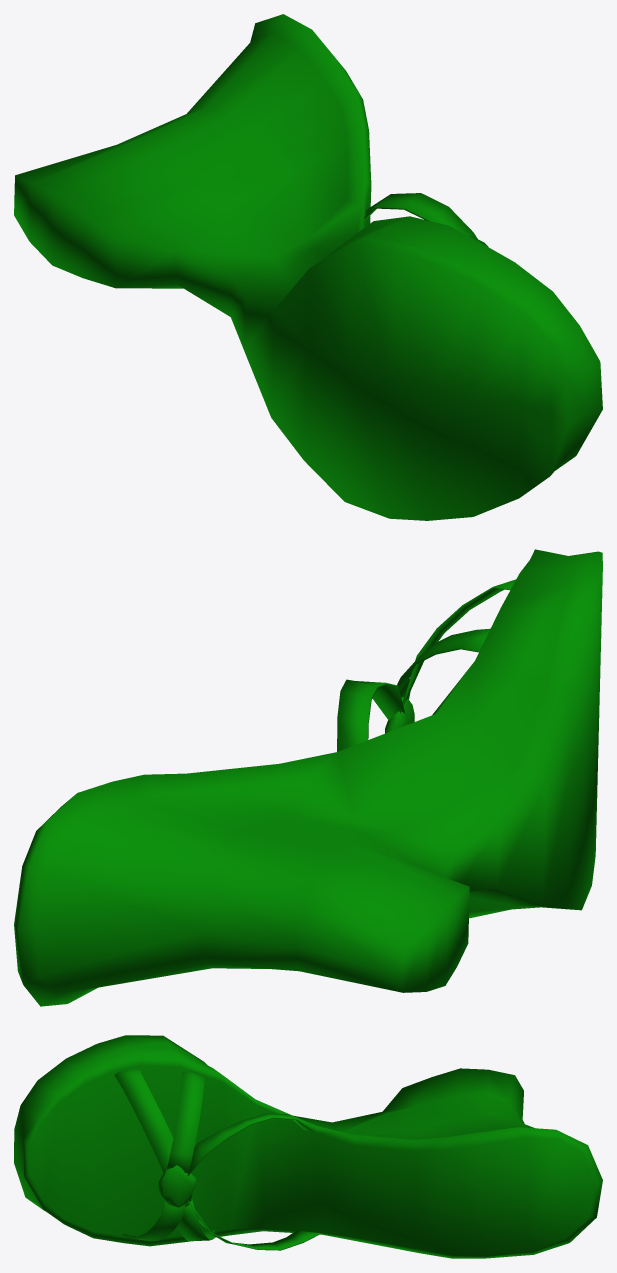
Rendered from shoe3_4.dae.
3 views of the same model, one above another, from view 1: azimuth 30°, elevation 25°; view 2: azimuth 150°, elevation 25°; view 3: azimuth 270°, elevation 25° (orthographic). The views are drawn at different scales.
Visible parts, largest first — view 1: shoe3; view 2: shoe3; view 3: shoe3.
Part boxes in pixels (x1,y1,x2,y2): shoe3: (14, 14, 602, 520); shoe3: (14, 549, 602, 1006); shoe3: (14, 1035, 602, 1258).
Bounding box in the file's own units: 0.1426 × 0.3367 × 0.1204.
